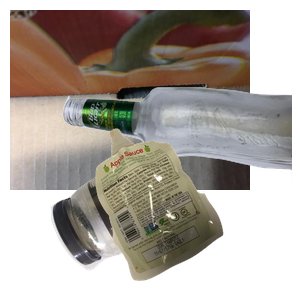cardboard: (10, 10, 250, 190)
glass: (60, 84, 300, 260)
plastic: (48, 152, 228, 300)
trash: (93, 126, 300, 300)
